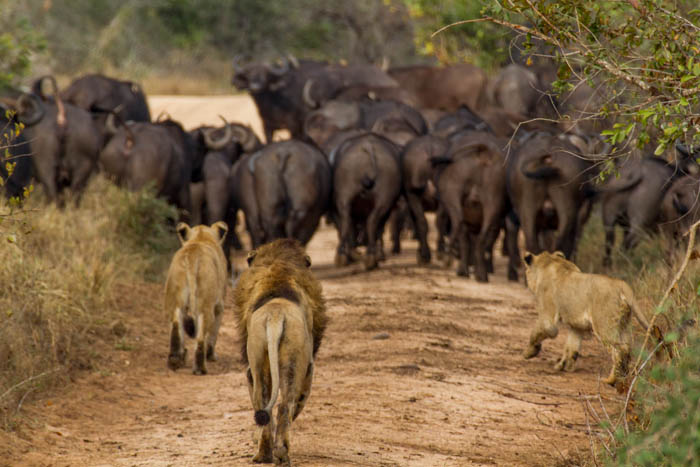buffalo: (505, 127, 601, 287), (105, 102, 203, 231), (234, 53, 397, 129), (323, 125, 402, 276), (441, 129, 508, 282), (254, 144, 331, 275), (20, 89, 96, 215), (599, 148, 667, 279), (306, 92, 424, 165), (196, 126, 262, 250), (44, 72, 156, 136), (395, 58, 494, 123), (401, 138, 450, 264)
lion: (232, 236, 329, 461), (520, 246, 666, 389), (162, 216, 232, 375)
